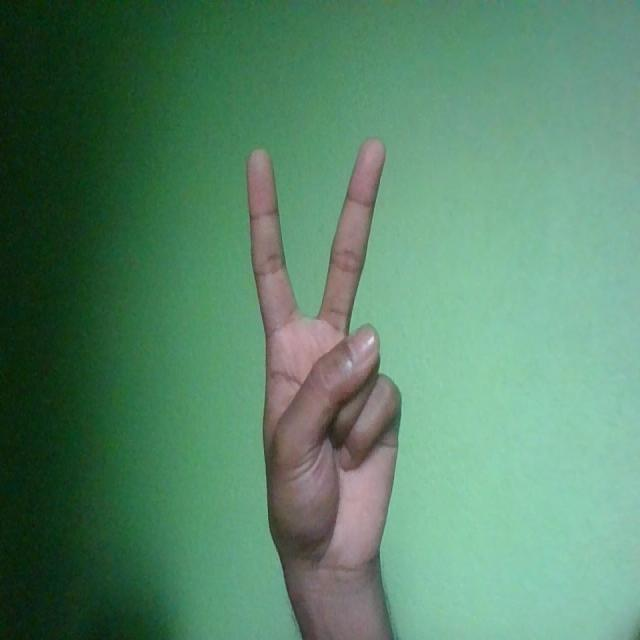Fist: (246, 134, 402, 582)
